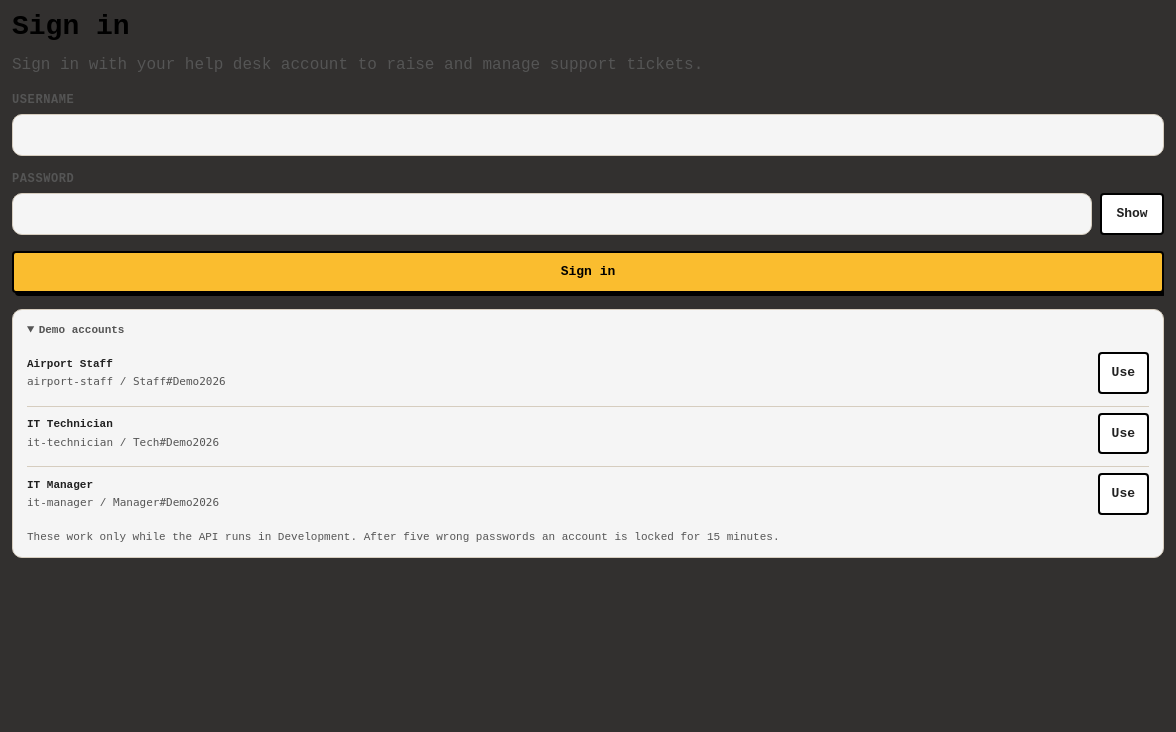
Test: Demo accounts panel — usability › AUTH-C30 "Use" clears an earlier error so the tester starts fresh
Click the button "Sign in".
click(588, 272)  # box [12,251,1164,293]
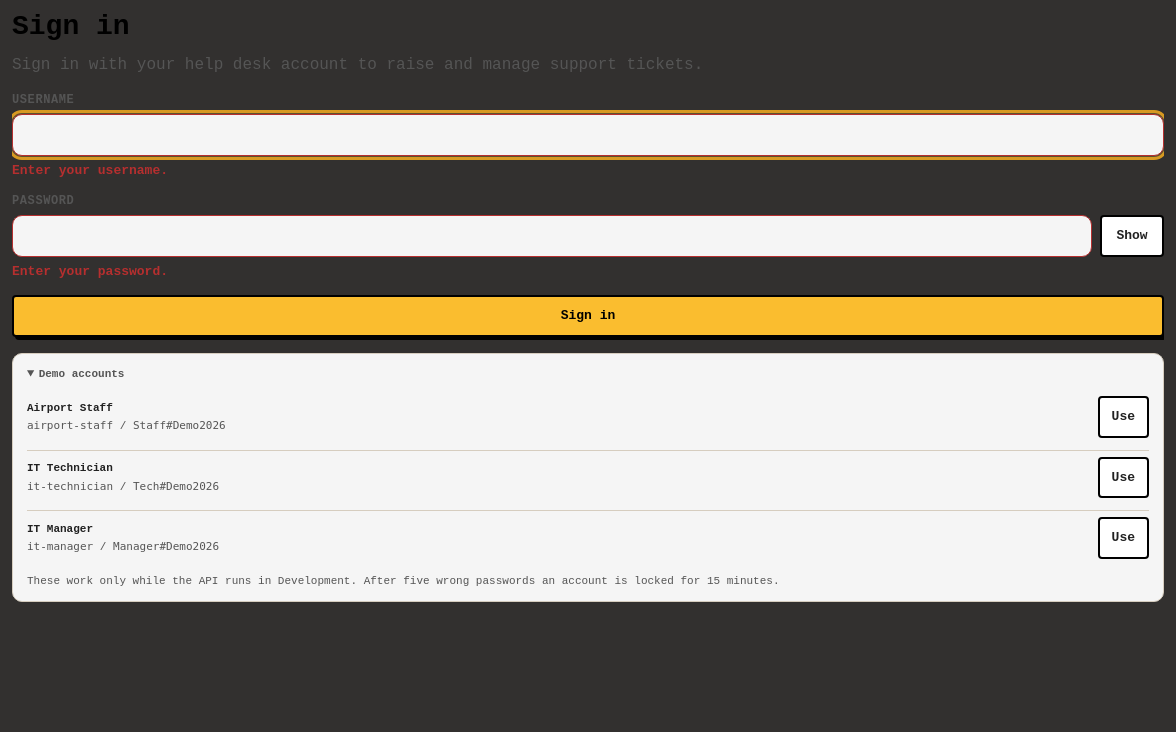
Expected: the text "Enter your username." is shown, [12,163,168,178]
Click the button with aria-label "Use the Airport Staff demo account".
click(1123, 417)  # box [1098,396,1149,438]
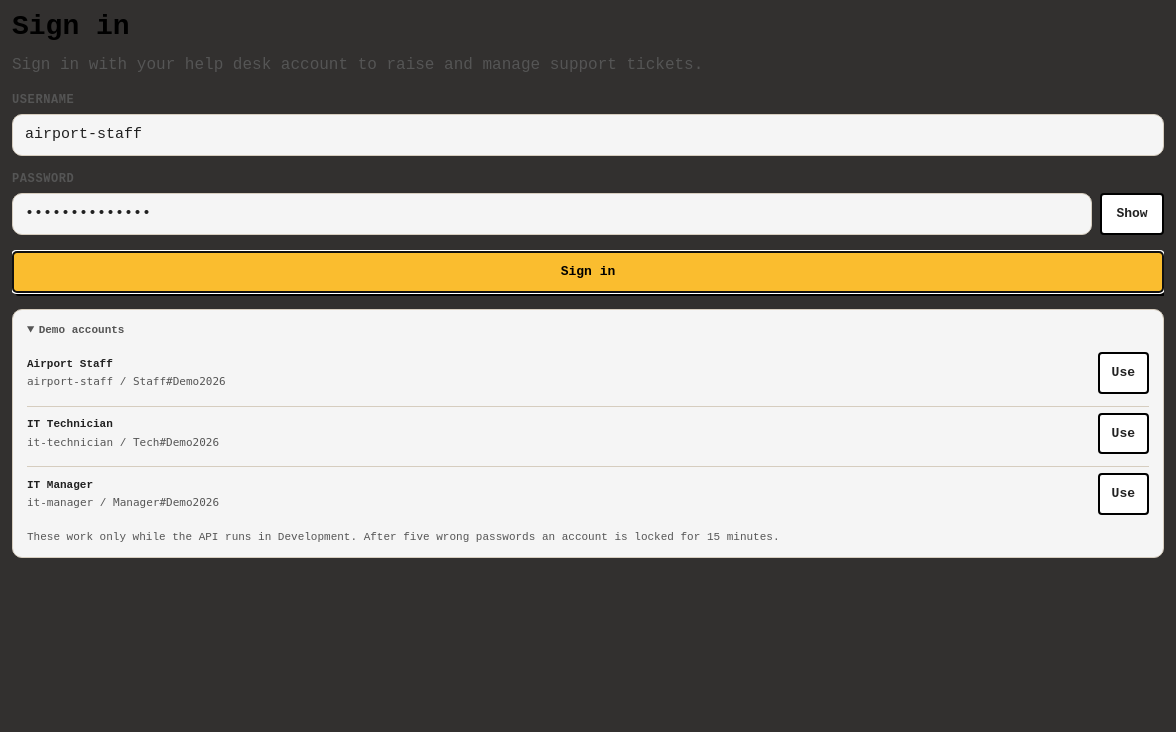
Expected: the text "Enter your username." is gone
